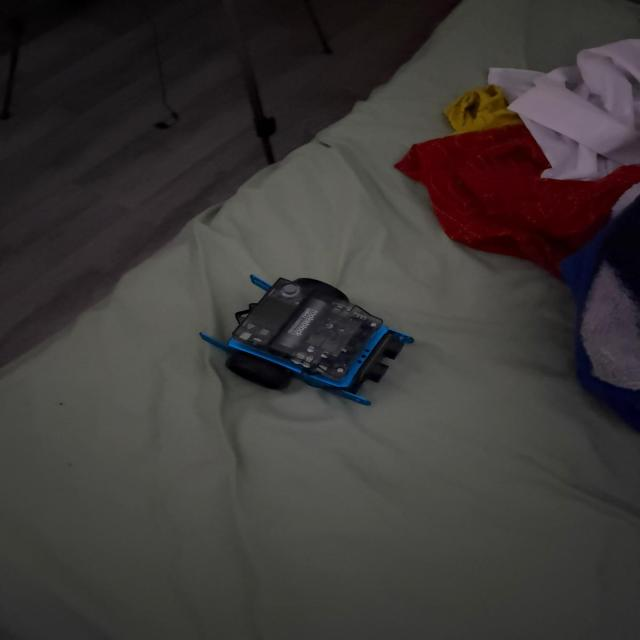mbot-detection: (196, 270, 422, 412)
